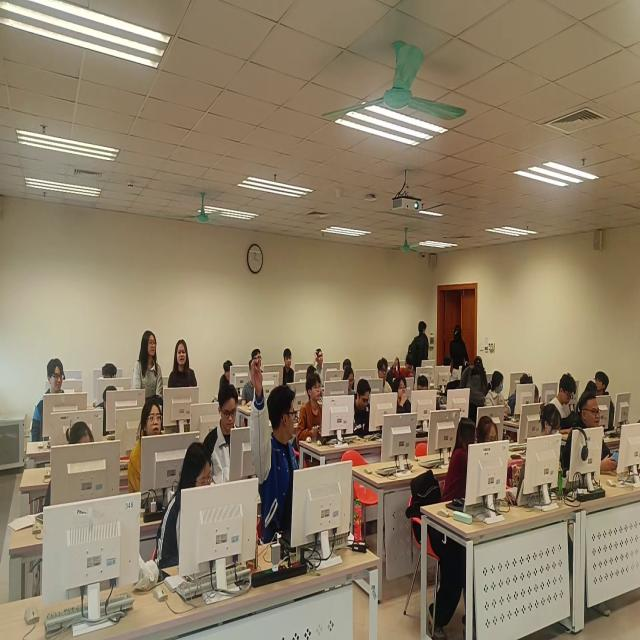raise_hand: (247, 357, 315, 565)
raise_head: (562, 391, 634, 487), (126, 399, 174, 503), (31, 359, 76, 442), (298, 372, 334, 455), (393, 373, 417, 432), (139, 327, 163, 363), (376, 358, 397, 398), (282, 348, 300, 386), (316, 348, 334, 380), (173, 342, 191, 372)
stand: (165, 335, 206, 416), (136, 326, 166, 425), (405, 312, 432, 383), (465, 352, 488, 433), (451, 322, 470, 391)
using_computer: (159, 446, 230, 575), (47, 419, 111, 520), (204, 385, 253, 488), (473, 416, 522, 502), (536, 403, 574, 492), (346, 380, 381, 449), (96, 387, 129, 451), (483, 372, 519, 430), (512, 369, 546, 420), (548, 374, 580, 420), (411, 371, 438, 419), (220, 361, 249, 401), (100, 357, 124, 401), (343, 365, 361, 406), (399, 354, 420, 385)
